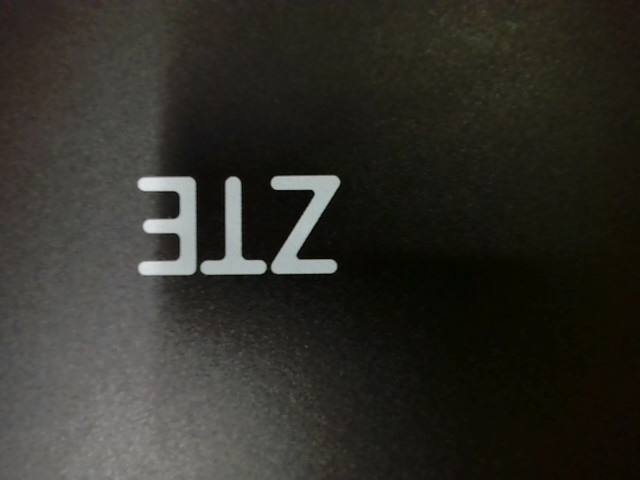AN_ZTE: (128, 160, 343, 279)
